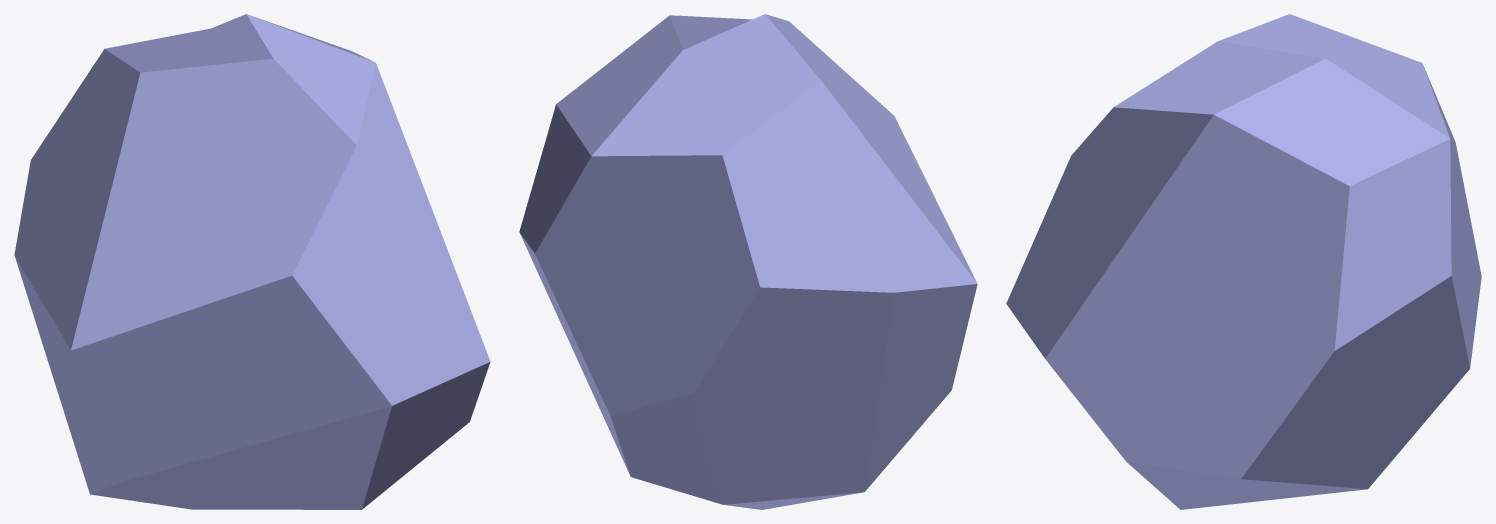
File: ENV_Rock_01.fbx
3 views of the same model, side by side, from view 1: azimuth 30°, elevation 25°; view 2: azimuth 150°, elevation 25°; view 3: azimuth 270°, elevation 25° (orthographic). The views are drawn at different scales.
Visible parts, largest first — view 1: Icosphere; view 2: Icosphere; view 3: Icosphere.
Part boxes in pixels (x1,y1,x2,y2): Icosphere: [14, 14, 490, 509]; Icosphere: [519, 14, 977, 509]; Icosphere: [1006, 14, 1481, 509].
Bounding box in the file's own units: 211 × 199 × 222.
